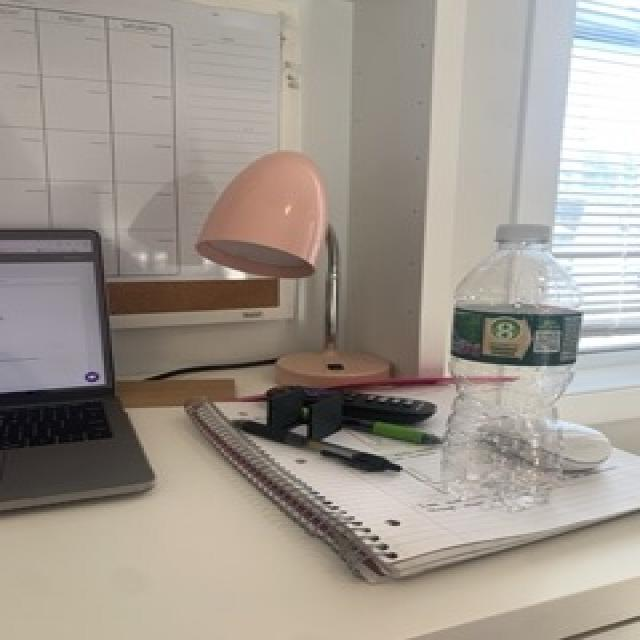water_bottle: (433, 216, 589, 520)
